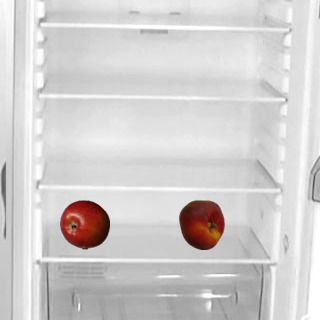Apple Braeburn: (59, 199, 109, 249)
Nectarine Flat: (176, 199, 226, 249)
